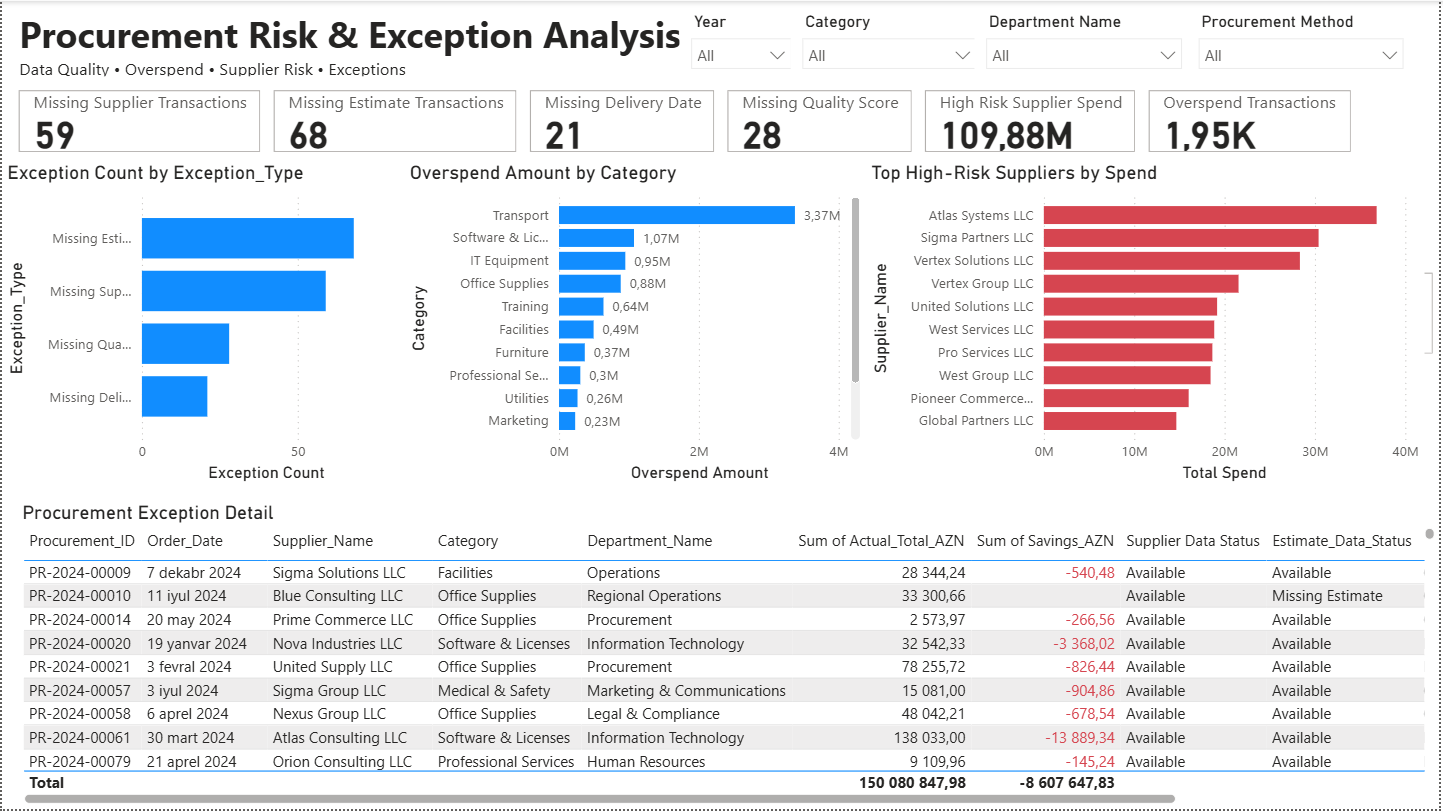

The page's visual inventory and layout, read from the dashboard file:
{"tool":"powerbi","page":{"name":"Risk & Exceptions","canvas":[1280,720],"ordinal":3},"visuals":[{"type":"textbox","box":[9.6,2.7,614.8,70],"z":0},{"type":"cardVisual","fields":{"Data":["Fact_Procurement.High Risk Supplier Spend","Fact_Procurement.Overspend Transactions"]},"box":[807.2,237.3,473.1,82.5],"z":1000},{"type":"slicer","fields":{"Values":["Dim_Date.Year"]},"box":[603.8,4,109.8,71],"z":6000},{"type":"slicer","fields":{"Values":["Dim_Category.Category"]},"box":[702.6,4,175.6,71],"z":7000},{"type":"slicer","fields":{"Values":["Dim_Department.Department_Name"]},"box":[865.9,4,194.9,71],"z":8000},{"type":"slicer","fields":{"Values":["Fact_Procurement.Procurement_Method"]},"box":[1055.2,4,203.1,71],"z":14000},{"type":"clusteredBarChart","fields":{"Category":["Dim_ExceptionType.Exception_Type"],"Y":["Dim_ExceptionType.Exception Count"]},"box":[0,142,358.8,291],"z":14001},{"type":"clusteredBarChart","title":"Overspend Amount by Category","fields":{"Category":["Dim_Category.Category"],"Y":["Fact_Procurement.Overspend Amount"]},"box":[358.8,142,410.9,291],"z":14002},{"type":"clusteredBarChart","title":"Top High-Risk Suppliers by Spend","fields":{"Category":["Dim_Supplier.Supplier_Name"],"Y":["Fact_Procurement.Total Spend"]},"box":[769.6,142,497.7,291],"z":14003},{"type":"tableEx","title":"Procurement Exception Detail","fields":{"Values":["Fact_Procurement.Procurement_ID","Fact_Procurement.Order_Date","Dim_Supplier.Supplier_Name","Dim_Category.Category","Dim_Department.Department_Name","Sum(Fact_Procurement.Actual_Total_AZN)","Sum(Fact_Procurement.Savings_AZN)","Fact_Procurement.Supplier Data Status","Fact_Procurement.Estimate_Data_Status","Fact_Procurement.Delivery_Status","Sum(Fact_Procurement.Quality_Score)"]},"box":[13,445.6,1267.3,274.9],"z":14004},{"type":"cardVisual","fields":{"Data":["Fact_Procurement.Missing Estimate Transactions"]},"box":[237,75,226,65],"z":14005},{"type":"cardVisual","fields":{"Data":["Fact_Procurement.Missing Delivery Date"]},"box":[465,75,174,65],"z":14006},{"type":"cardVisual","fields":{"Data":["Fact_Procurement.Missing Supplier Transactions"]},"box":[10,75,225,65],"z":14007},{"type":"cardVisual","fields":{"Data":["Fact_Procurement.High Risk Supplier Spend"]},"box":[817,75,197,65],"z":14008},{"type":"cardVisual","fields":{"Data":["Fact_Procurement.Overspend Transactions"]},"box":[1016,75,191,65],"z":14009},{"type":"cardVisual","fields":{"Data":["Fact_Procurement.Missing Quality Score"]},"box":[641,75,174,65],"z":14010}]}

Visuals, with their boxes in screenshot pixels (x1, y1, x2, y2), scaled from the page's 1280x720 canvas onto the 1443x811 screenshot:
textbox: x1=11 y1=3 x2=704 y2=82
cardVisual - Fact_Procurement.High Risk Supplier Spend x Fact_Procurement.Overspend Transactions: x1=910 y1=267 x2=1442 y2=360
slicer - Dim_Date.Year: x1=681 y1=5 x2=804 y2=84
slicer - Dim_Category.Category: x1=792 y1=5 x2=990 y2=84
slicer - Dim_Department.Department_Name: x1=976 y1=5 x2=1196 y2=84
slicer - Fact_Procurement.Procurement_Method: x1=1190 y1=5 x2=1419 y2=84
clusteredBarChart - Dim_ExceptionType.Exception_Type x Dim_ExceptionType.Exception Count: x1=0 y1=160 x2=404 y2=488
"Overspend Amount by Category" clusteredBarChart: x1=404 y1=160 x2=868 y2=488
"Top High-Risk Suppliers by Spend" clusteredBarChart: x1=868 y1=160 x2=1429 y2=488
"Procurement Exception Detail" tableEx: x1=15 y1=502 x2=1442 y2=810
cardVisual - Fact_Procurement.Missing Estimate Transactions: x1=267 y1=84 x2=522 y2=158
cardVisual - Fact_Procurement.Missing Delivery Date: x1=524 y1=84 x2=720 y2=158
cardVisual - Fact_Procurement.Missing Supplier Transactions: x1=11 y1=84 x2=265 y2=158
cardVisual - Fact_Procurement.High Risk Supplier Spend: x1=921 y1=84 x2=1143 y2=158
cardVisual - Fact_Procurement.Overspend Transactions: x1=1145 y1=84 x2=1361 y2=158
cardVisual - Fact_Procurement.Missing Quality Score: x1=723 y1=84 x2=919 y2=158
